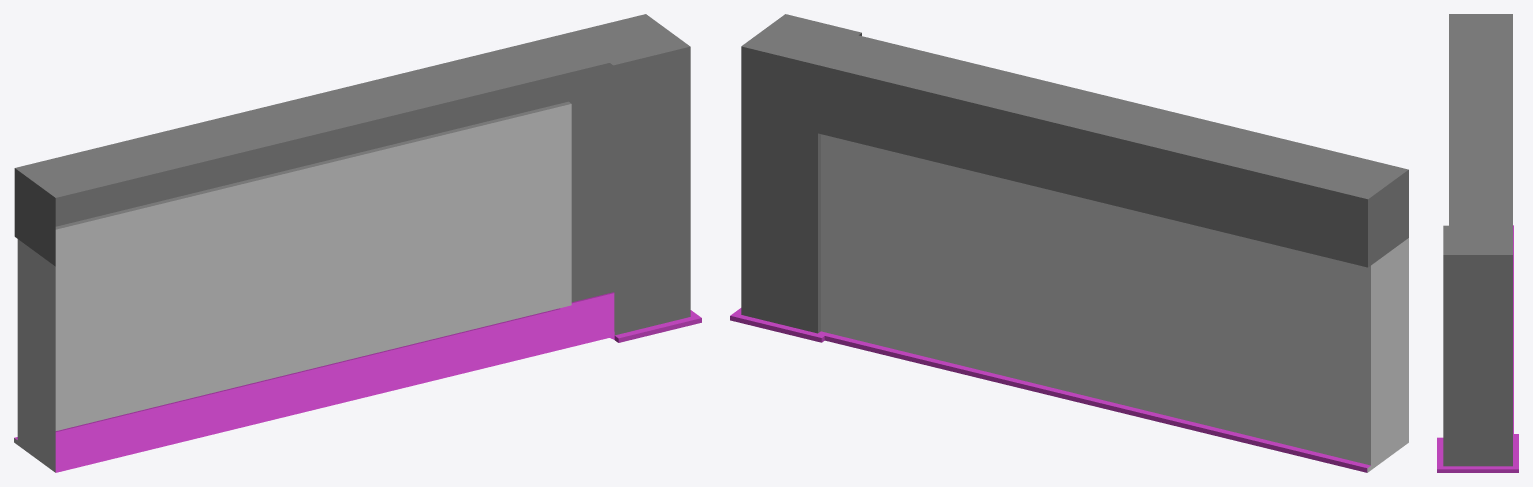
The model's file is EmptyFacade.fbx.
3 views of the same model, side by side, from view 1: azimuth 30°, elevation 25°; view 2: azimuth 150°, elevation 25°; view 3: azimuth 270°, elevation 25° (orthographic). The views are drawn at different scales.
Parts seen in each view (by area): view 1: Cube; view 2: Cube; view 3: Cube.
Boxes of the visible parts, box(x1,y1,x2,y2) form: Cube: box(14, 14, 701, 472); Cube: box(730, 14, 1408, 472); Cube: box(1437, 14, 1518, 472).
Bounding box in the file's own units: 972 × 400 × 138.
